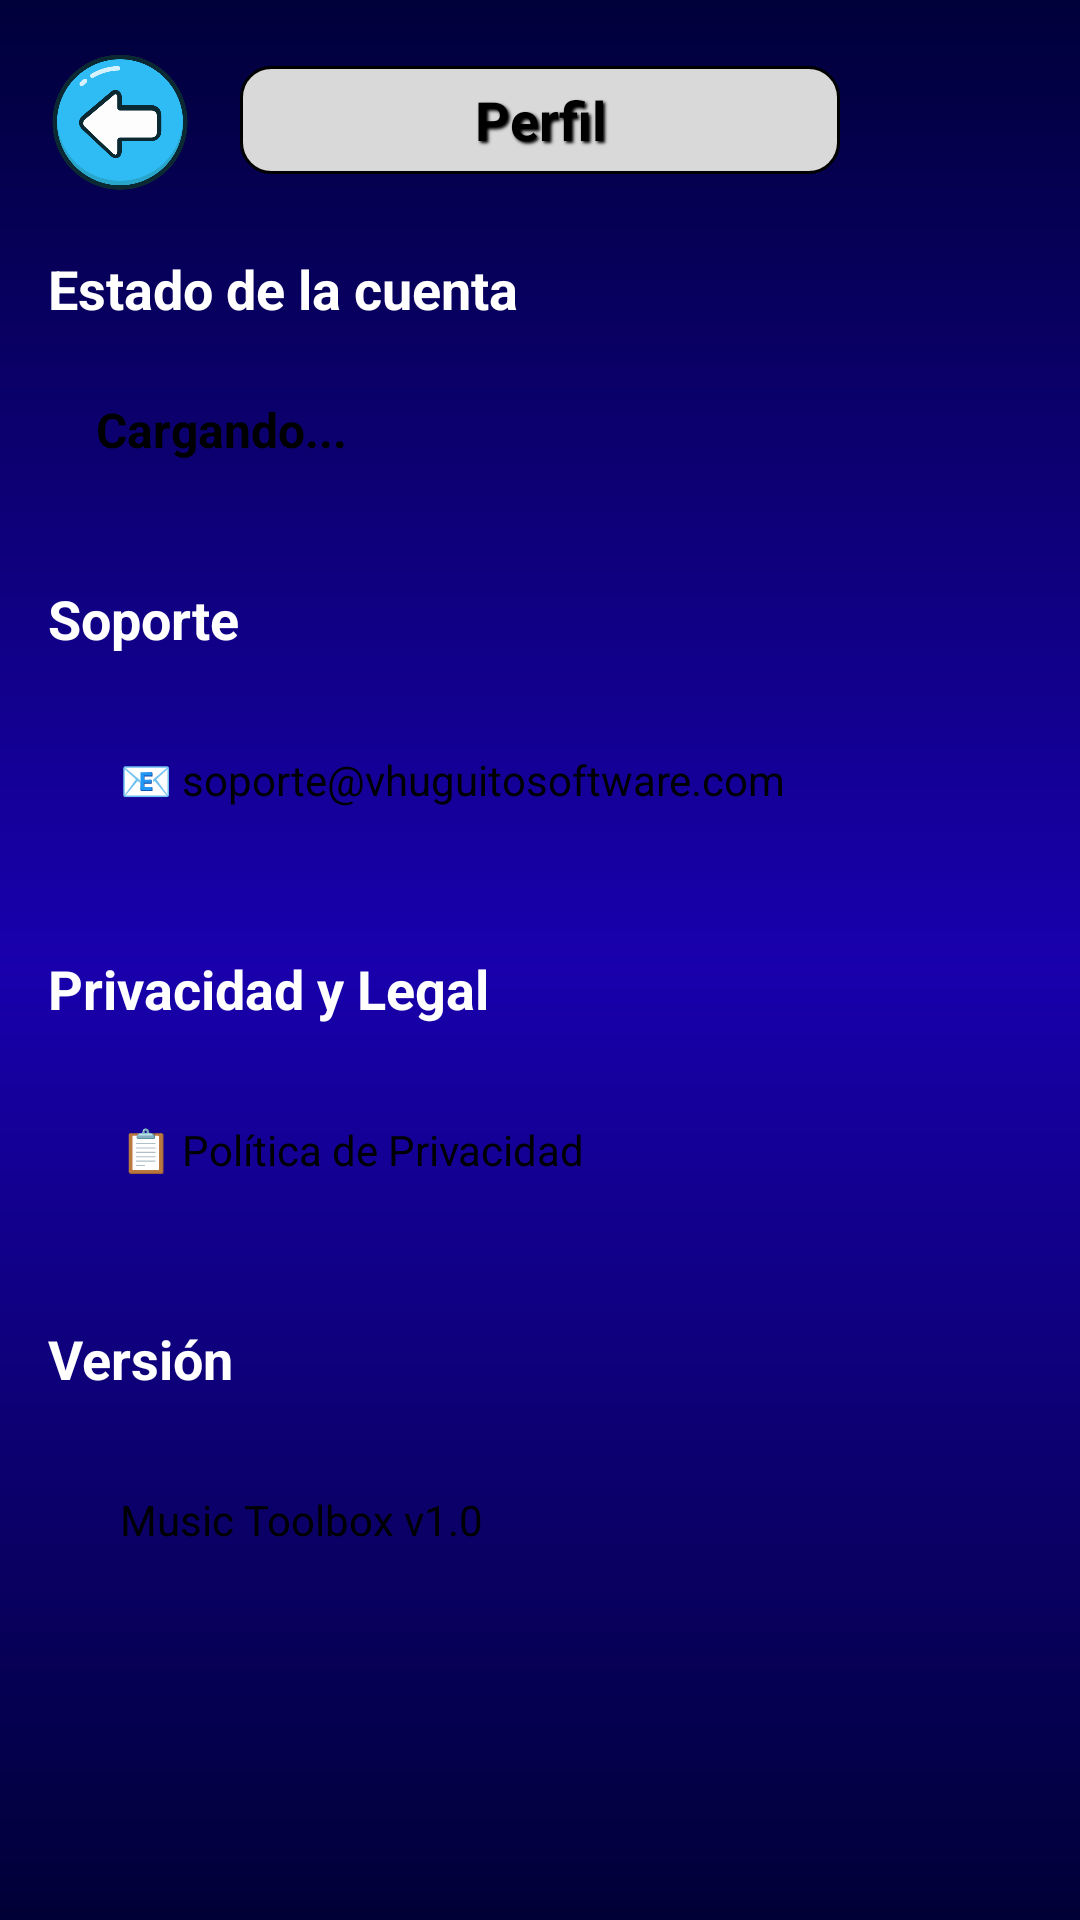

Icon click points for this 1080x1920 phone screenshot, format [x,y]:
arrow regresar: [120,122]
